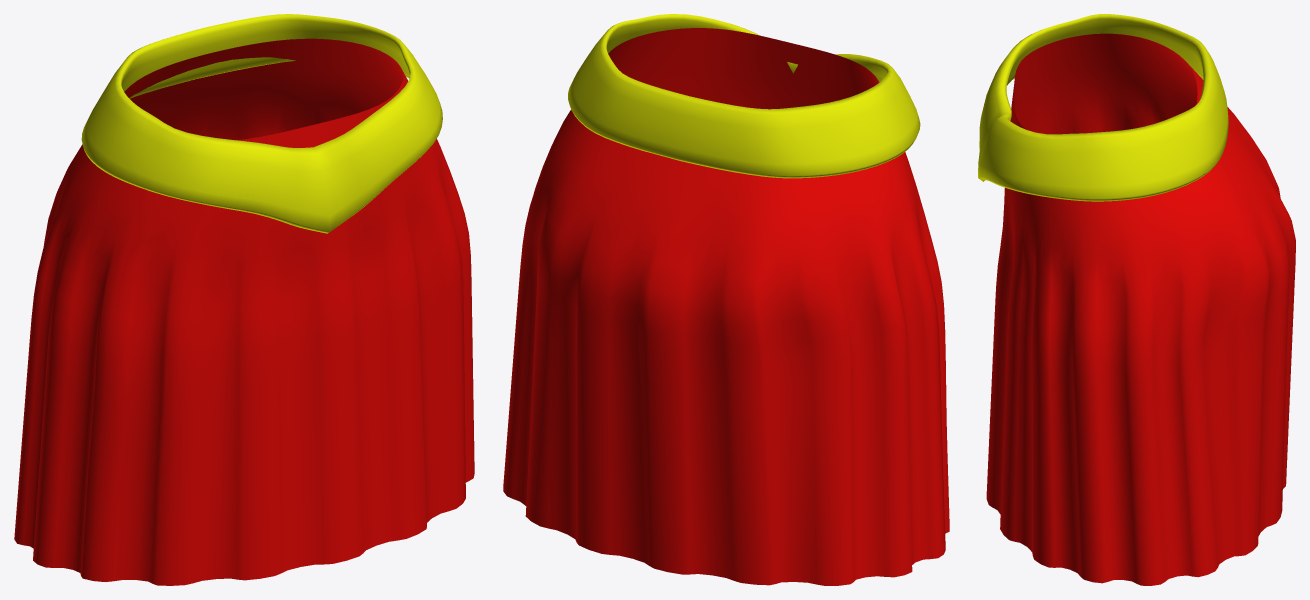
Rendered from Supergirl_Skirt.fbx.
3 renders of one model, left to right at view 1: azimuth 30°, elevation 25°; view 2: azimuth 150°, elevation 25°; view 3: azimuth 270°, elevation 25°, orthographic. The views are drawn at different scales.
Parts seen in each view (by area): view 1: Skirt; view 2: Skirt; view 3: Skirt.
Boxes of the visible parts, box(x1,y1,x2,y2) form: Skirt: box(14, 14, 474, 585); Skirt: box(503, 14, 949, 585); Skirt: box(978, 14, 1295, 585).
Size of the model in its own units: 30.37 by 30.49 by 21.1.
